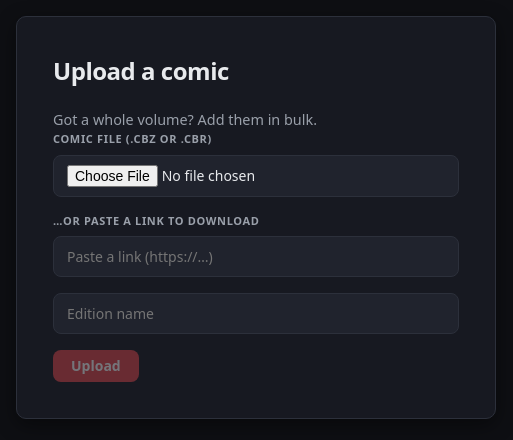
editions already in the library are offered in the dropdown
The width and height of the screenshot is (513, 440).
Focus the field with placeholder "Edition name" at x=256, y=313, box [53,293,459,334]
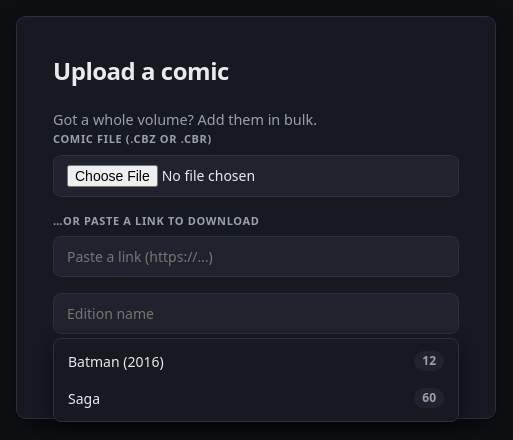
Expected: the options read "Batman (2016)12", "Saga60", in this order, [68,351,444,371]; [68,388,444,408]
